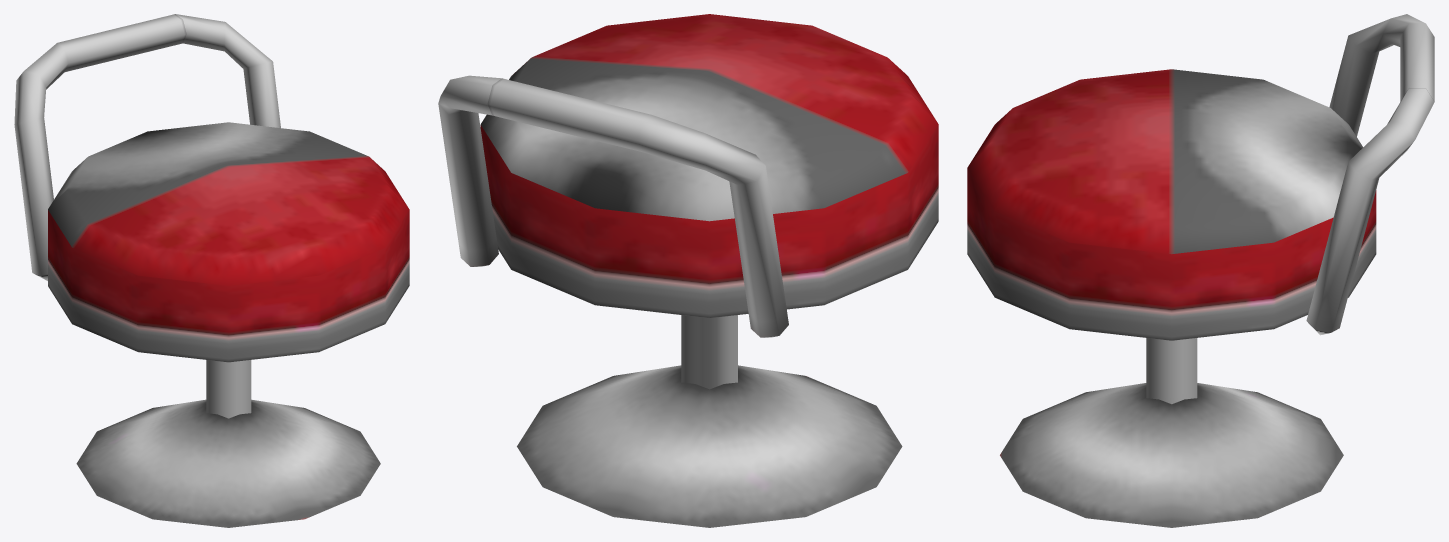
Rendered from int_oth_chairS.dae.
3 renders of one model, left to right at view 1: azimuth 30°, elevation 25°; view 2: azimuth 150°, elevation 25°; view 3: azimuth 270°, elevation 25°, orthographic. The views are drawn at different scales.
Visible parts, largest first — view 1: int_oth_chairS; view 2: int_oth_chairS; view 3: int_oth_chairS.
Boxes of the visible parts, bbox=[...] form: int_oth_chairS: bbox=[14, 14, 409, 527]; int_oth_chairS: bbox=[438, 14, 938, 527]; int_oth_chairS: bbox=[967, 14, 1434, 527].
Bounding box in the file's own units: 19.56 × 21.07 × 22.35.
Materials: 1 (1 with a texture image).
